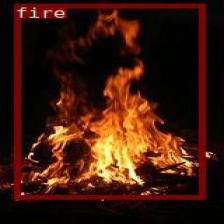fire: (13, 3, 204, 198)
